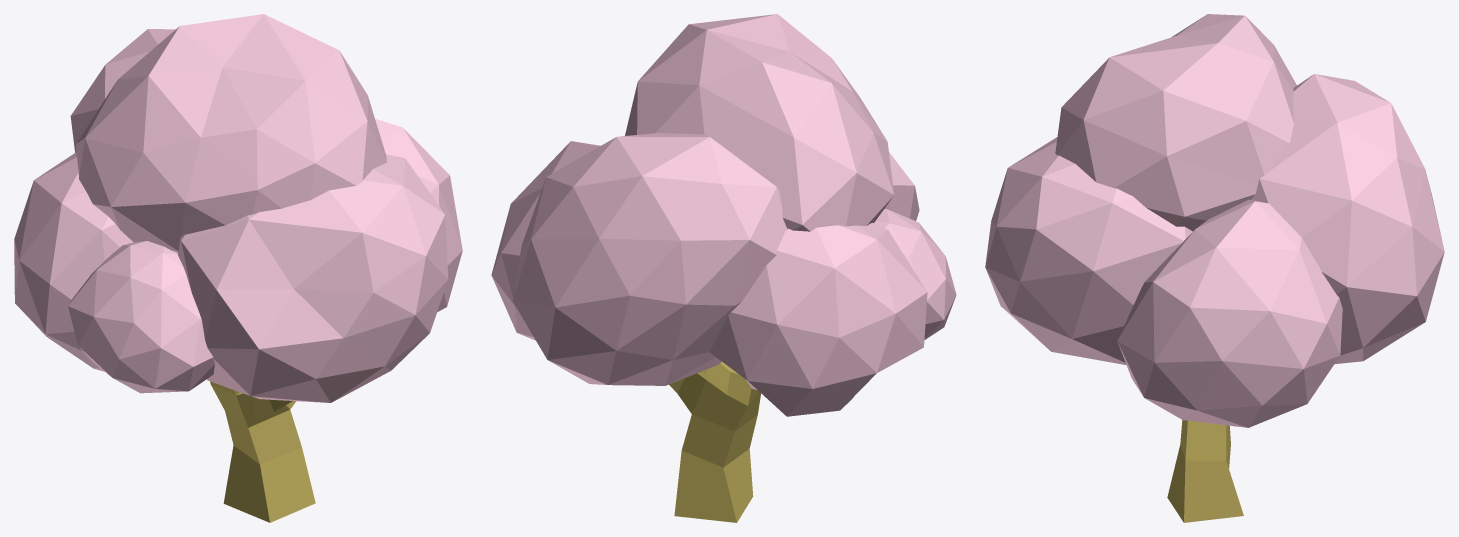
File: CherryTreeLight.fbx
3 views of the same model, side by side, from view 1: azimuth 30°, elevation 25°; view 2: azimuth 150°, elevation 25°; view 3: azimuth 270°, elevation 25° (orthographic). The views are drawn at different scales.
Parts seen in each view (by area): view 1: OakTree3; view 2: OakTree3; view 3: OakTree3.
Boxes of the visible parts, bbox=[...] form: OakTree3: bbox=[14, 14, 462, 522]; OakTree3: bbox=[491, 14, 956, 522]; OakTree3: bbox=[985, 14, 1444, 522].
Size of the model in its own units: 1382 by 1584 by 1423.
